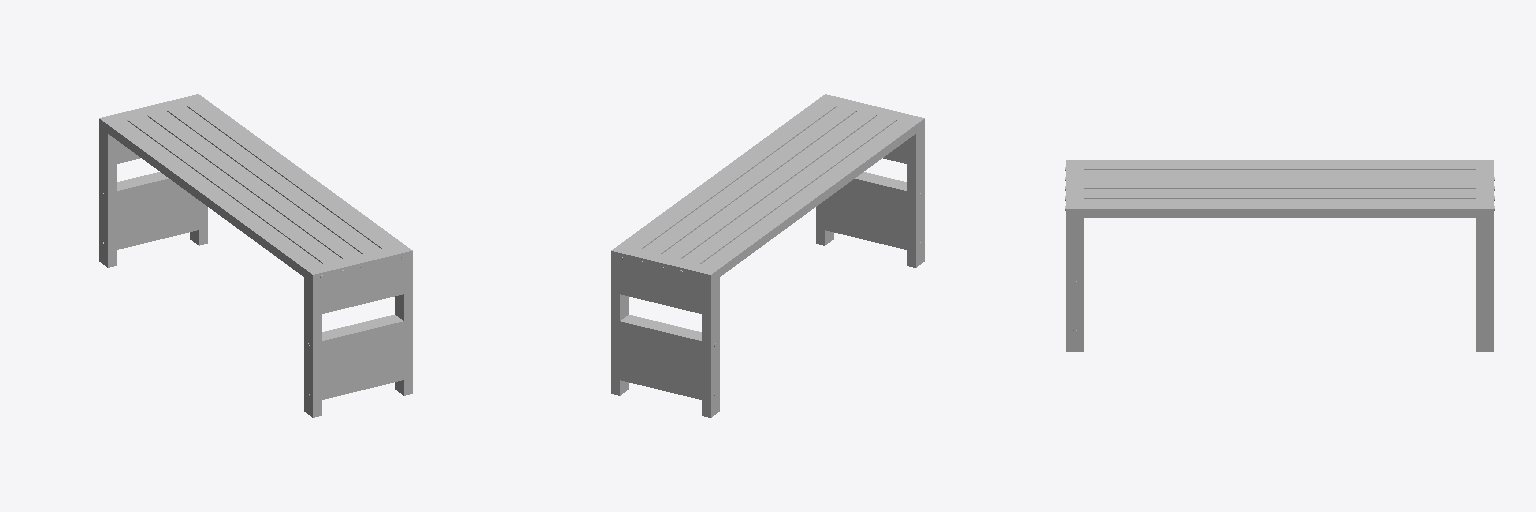
Rendered from bench.obj.
3 views of the same model, side by side, from view 1: azimuth 30°, elevation 25°; view 2: azimuth 150°, elevation 25°; view 3: azimuth 270°, elevation 25° (orthographic).
Visible parts, largest first — view 1: bench; view 2: bench; view 3: bench.
Part boxes in pixels (x1,y1,x2,y2): bench: (99, 94, 412, 417); bench: (611, 94, 924, 417); bench: (1065, 160, 1494, 351).
Bounding box in the file's own units: 1.58 × 2.14 × 5.82.